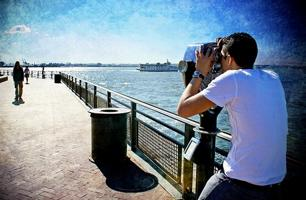person: (177, 33, 289, 200)
